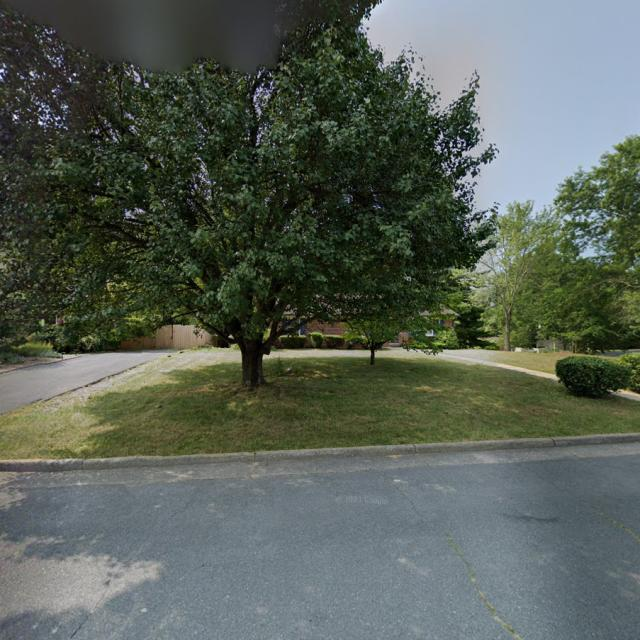House: (261, 294, 461, 349)
